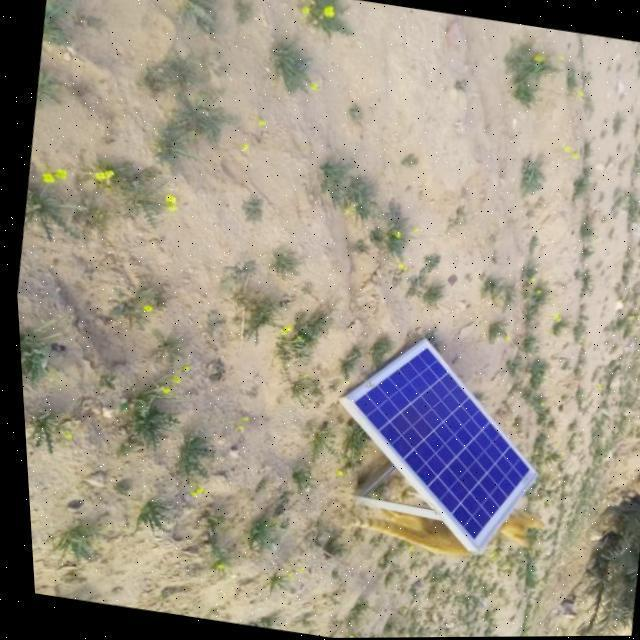Normal Solar Panel: (310, 328, 551, 556)
